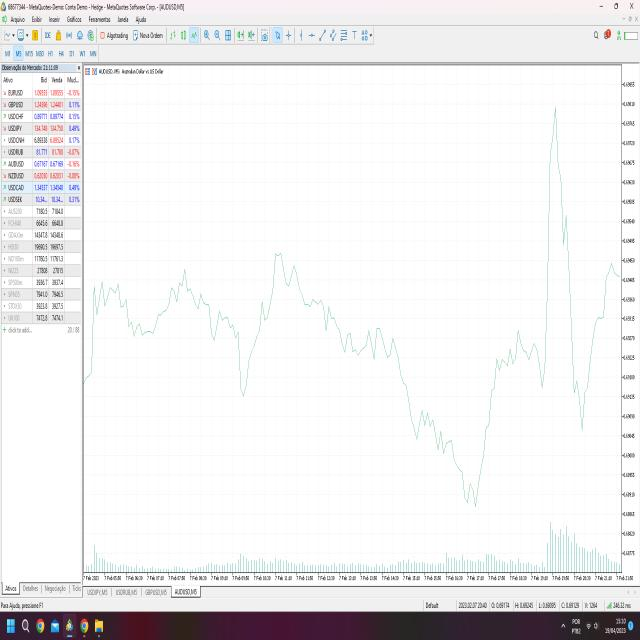bandeira_alta: (477, 300, 542, 506)
